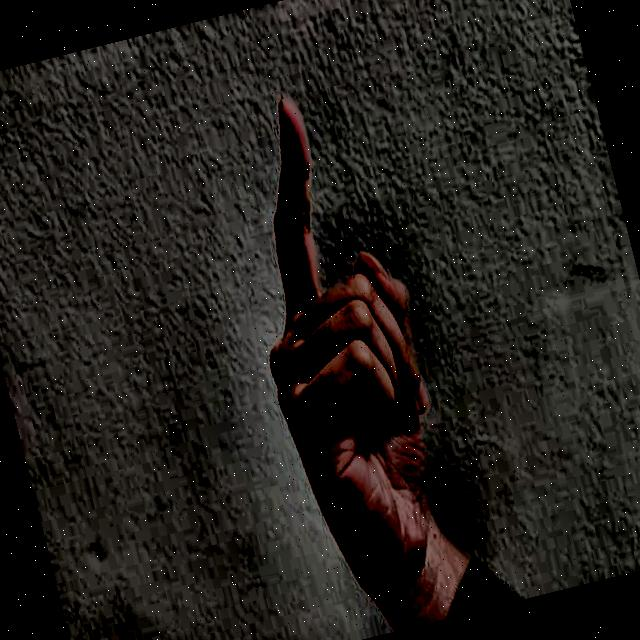U: (167, 47, 479, 589)
